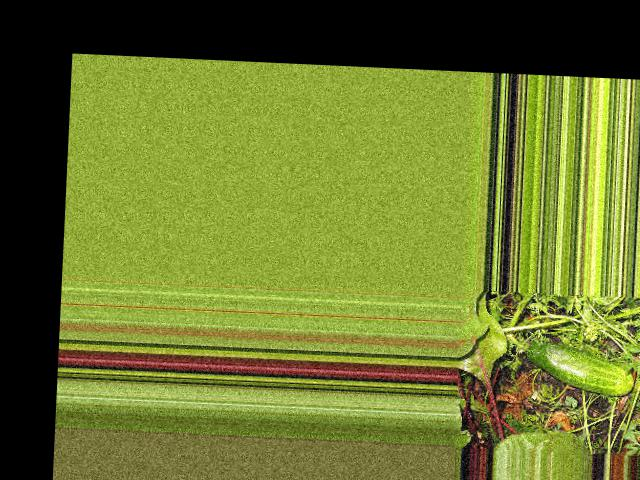cucumber: (523, 338, 633, 396)
